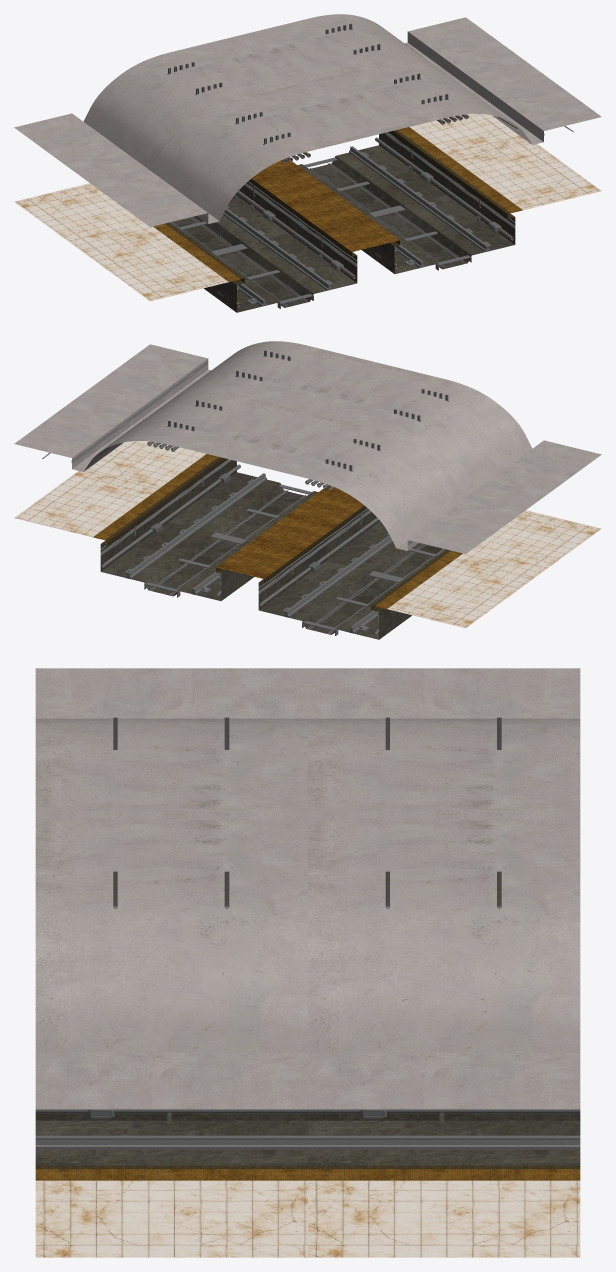
Rendered from Ped_Tunnel_Middle_03_02.fbx.
3 views of the same model, one above another, from view 1: azimuth 30°, elevation 25°; view 2: azimuth 150°, elevation 25°; view 3: azimuth 270°, elevation 25° (orthographic). The views are drawn at different scales.
Parts seen in each view (by area): view 1: Ped_Tunnel_Middle_03_02; view 2: Ped_Tunnel_Middle_03_02; view 3: Ped_Tunnel_Middle_03_02.
Boxes of the visible parts, x1=… form: Ped_Tunnel_Middle_03_02: x1=14, y1=14, x2=601, y2=312; Ped_Tunnel_Middle_03_02: x1=14, y1=341, x2=601, y2=639; Ped_Tunnel_Middle_03_02: x1=35, y1=668, x2=580, y2=1257.
Size of the model in its own units: 1916 by 627 by 1001.
